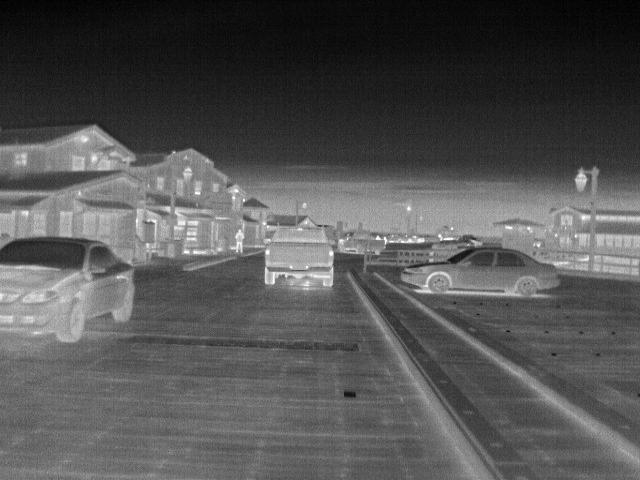car: (0, 235, 139, 346), (395, 246, 559, 296), (261, 224, 336, 289), (336, 229, 387, 255)
person: (234, 228, 246, 255)
